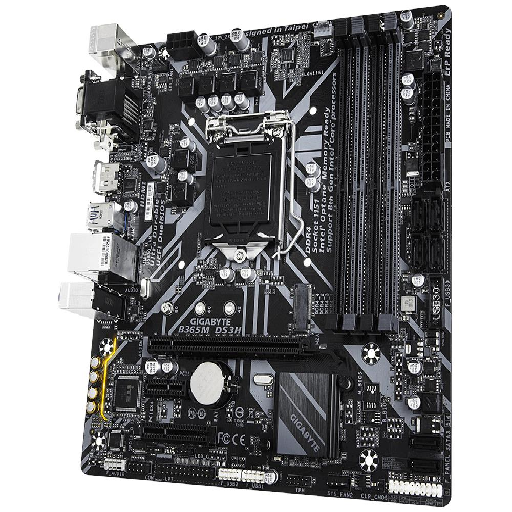CPU: (207, 116, 281, 260)
GPU: (147, 333, 321, 356)
MOTHERBOARD: (75, 5, 454, 507)
RAM: (327, 13, 401, 336)
SSD: (293, 284, 311, 331)
